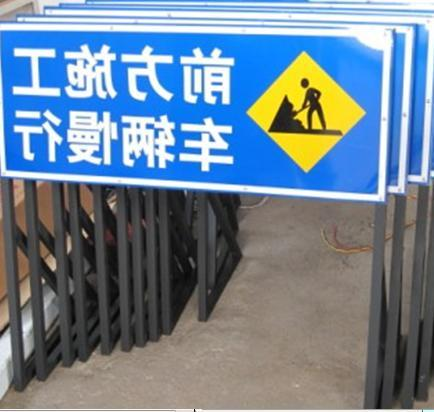sign: (1, 23, 396, 204)
